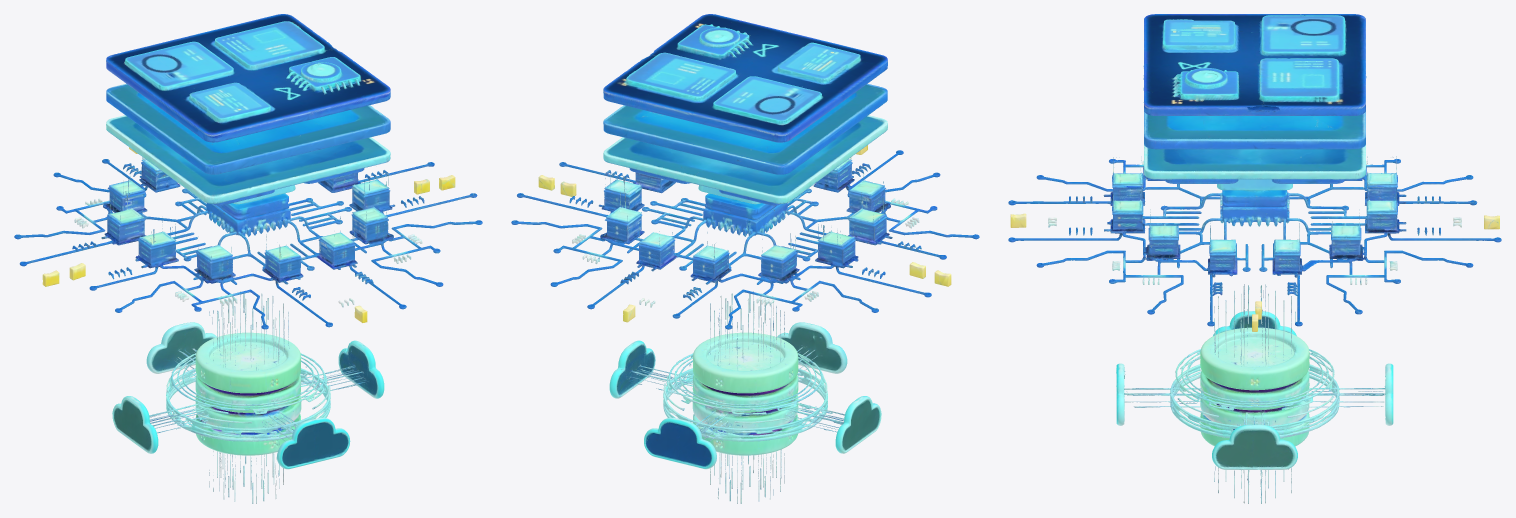
Rendered from web_3.glb.
The picture shows the model from 3 angles, left to right: view 1: azimuth 30°, elevation 25°; view 2: azimuth 150°, elevation 25°; view 3: azimuth 270°, elevation 25°; orthographic projection. The views are drawn at different scales.
Size of the model in its own units: 1.9 by 1.89 by 1.9.
1 material, 1 textured.
